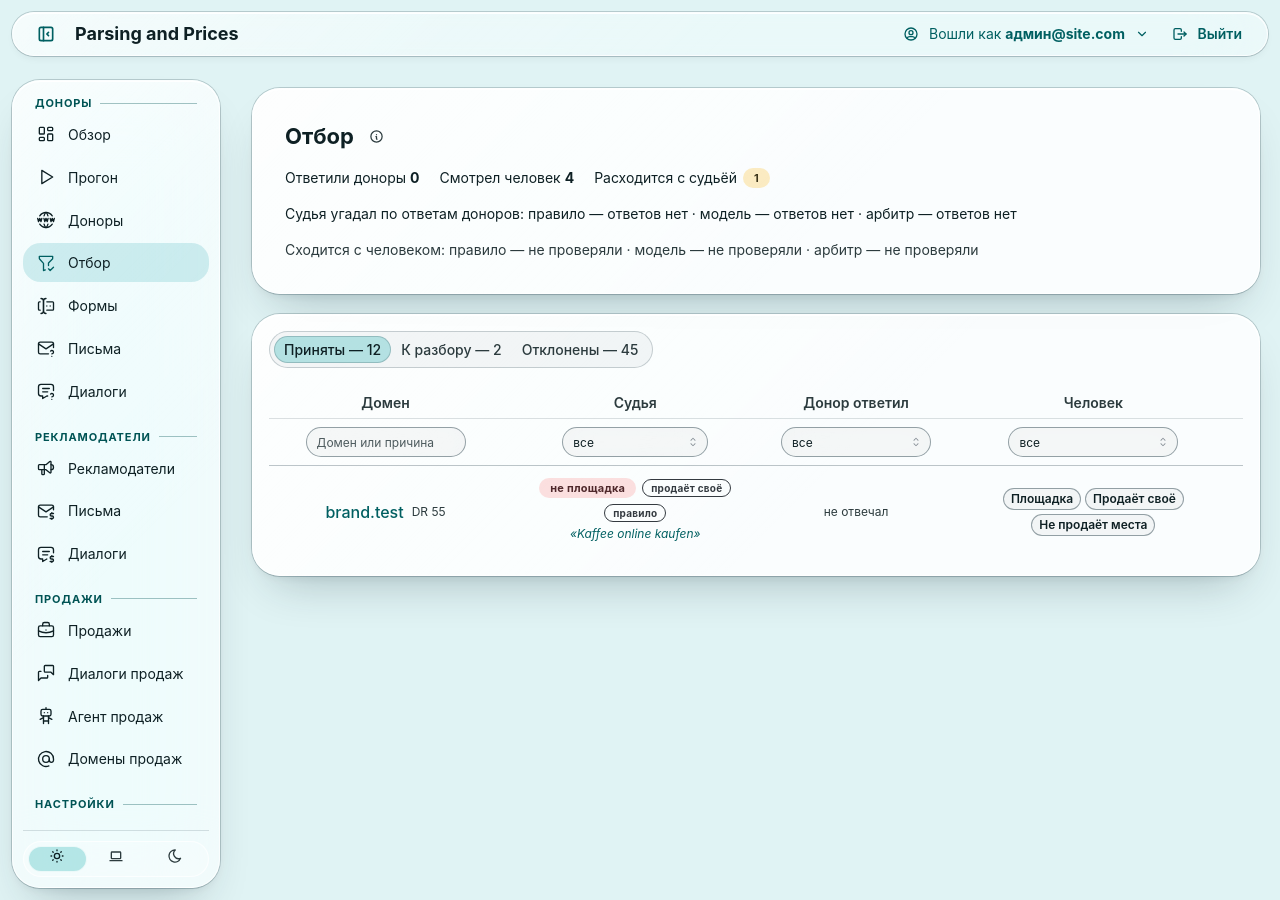
it: отбор: пусто и отказ › отказ сервера на новом фильтре — строкой в таблице; сводка и фильтры стоят
Check: the link "brand.test" is shown, box [326,500,404,525]
Click the field named "Ответ донора": point(856, 442) [781,427,931,457]
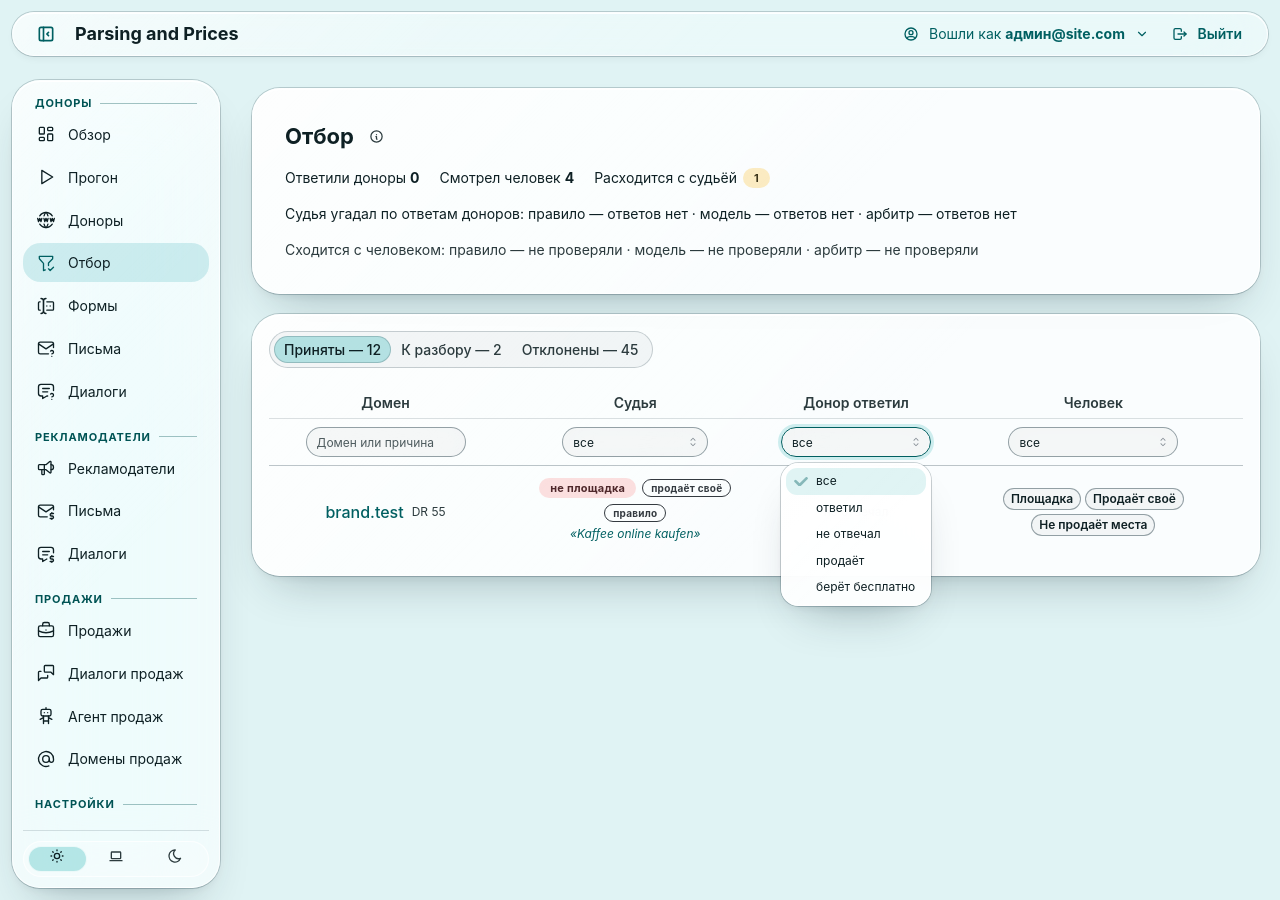
Click the option "ответил": point(839, 507) [816,500,862,515]
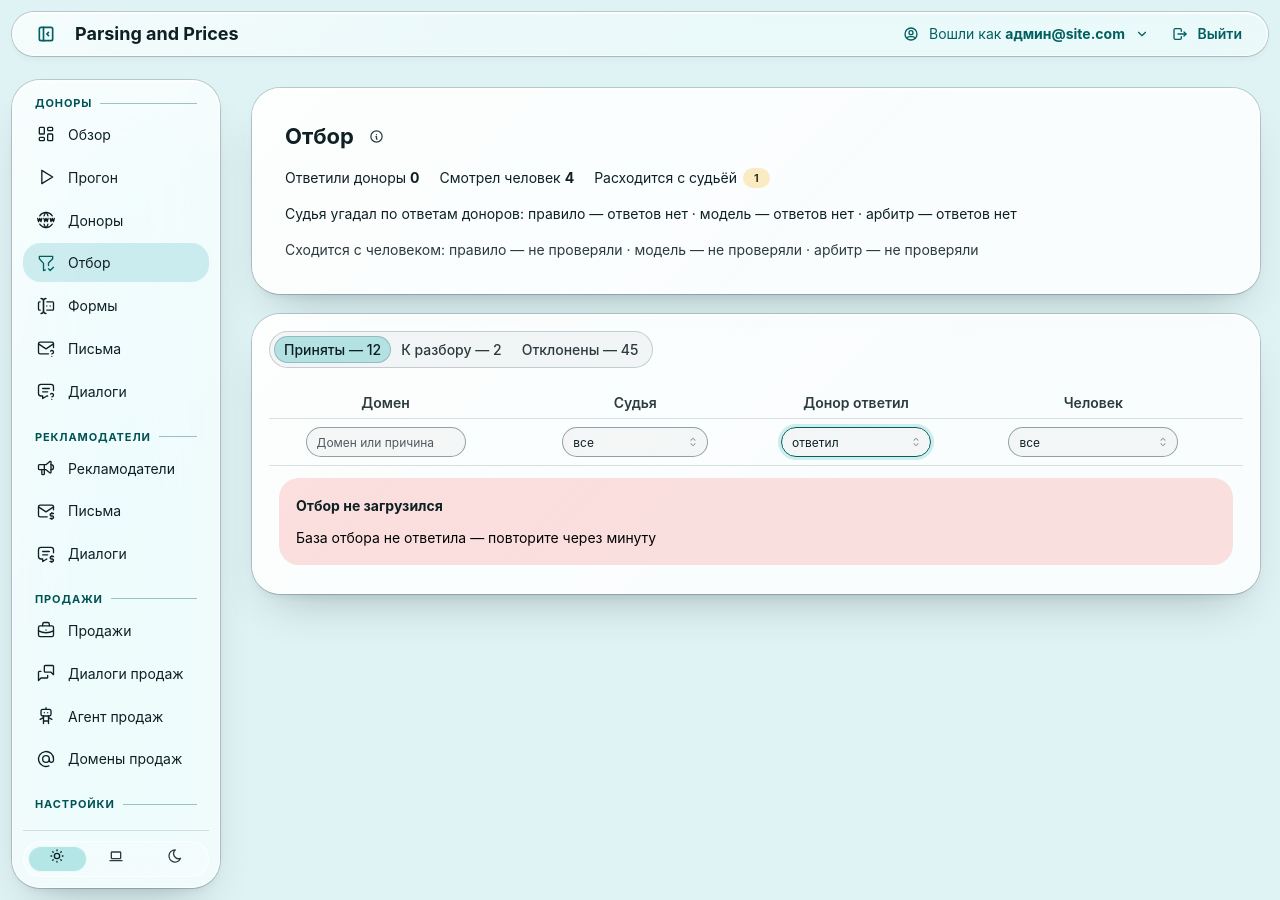
Check: the heading "Отбор" is shown, box [285,121,354,152]
Check: the text "База отбора не ответила — повторите через минуту" is shown, box [296,529,656,546]
Check: the field named "Ответ донора" holds "ответил", box [781,427,931,457]
